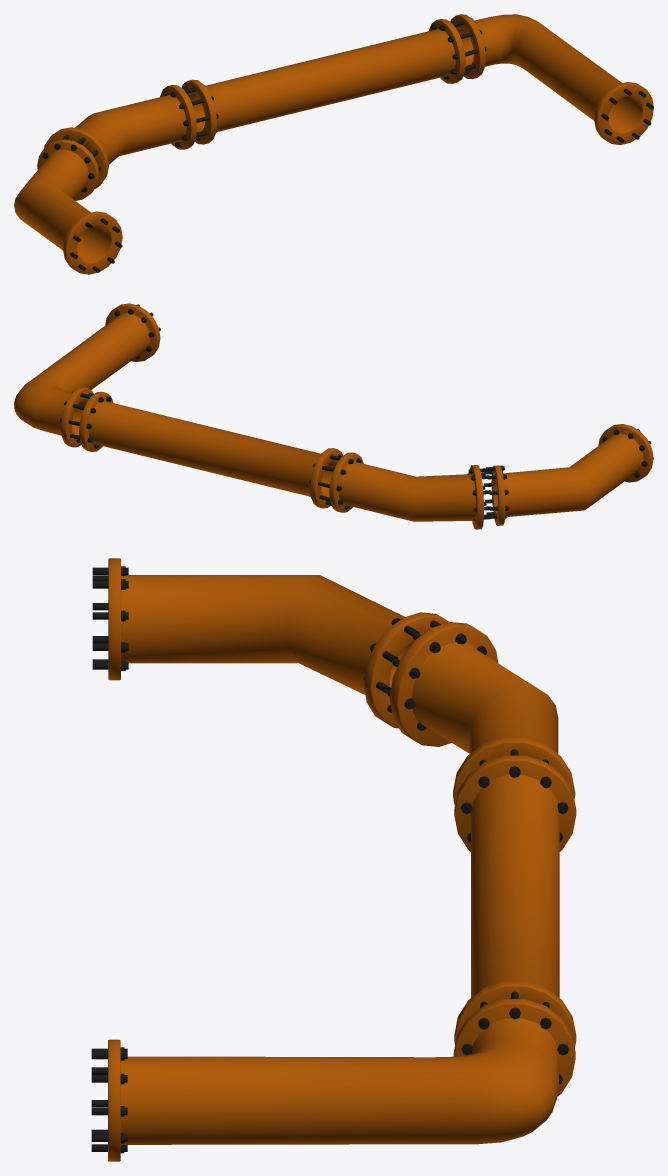
File: IND_PIPE_4.FBX
3 renders of one model, top to bottom at view 1: azimuth 30°, elevation 25°; view 2: azimuth 150°, elevation 25°; view 3: azimuth 270°, elevation 25°, orthographic. The views are drawn at different scales.
Visible parts, largest first — view 1: Cylinder035, Pipe_4; view 2: Cylinder035, Pipe_4; view 3: Cylinder035, Pipe_4, screws017.
Boxes of the visible parts, x1,y1,x2,y2 form: Cylinder035: [14, 14, 653, 274]; Pipe_4: [42, 22, 470, 272]; Cylinder035: [14, 303, 653, 529]; Pipe_4: [75, 395, 653, 521]; Cylinder035: [108, 558, 576, 1161]; Pipe_4: [92, 566, 568, 1008]; screws017: [91, 1047, 127, 1153].
Size of the model in its own units: 2034 by 205 by 782.
